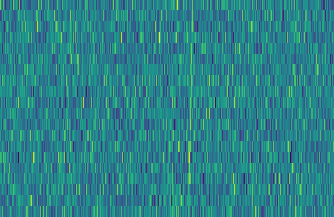signal: (183, 0, 197, 217)
